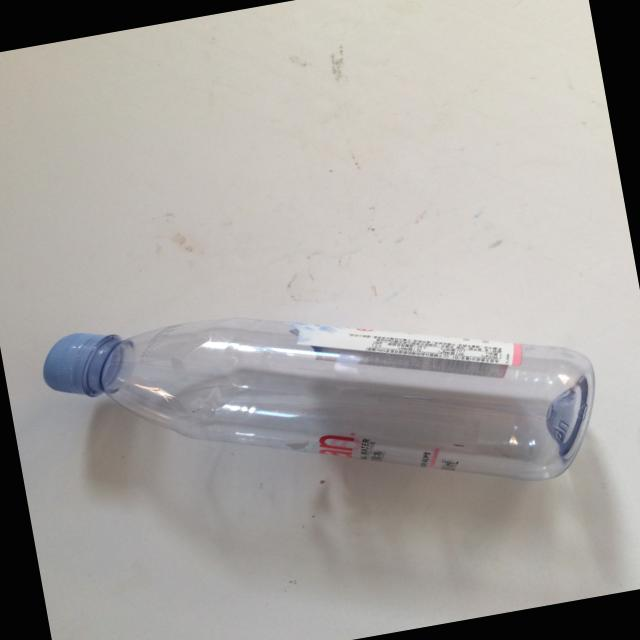Plastic: (24, 218, 640, 596)
